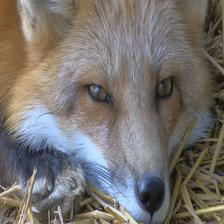fox: (2, 0, 223, 224)
